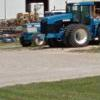Tractor: (16, 5, 100, 65)
